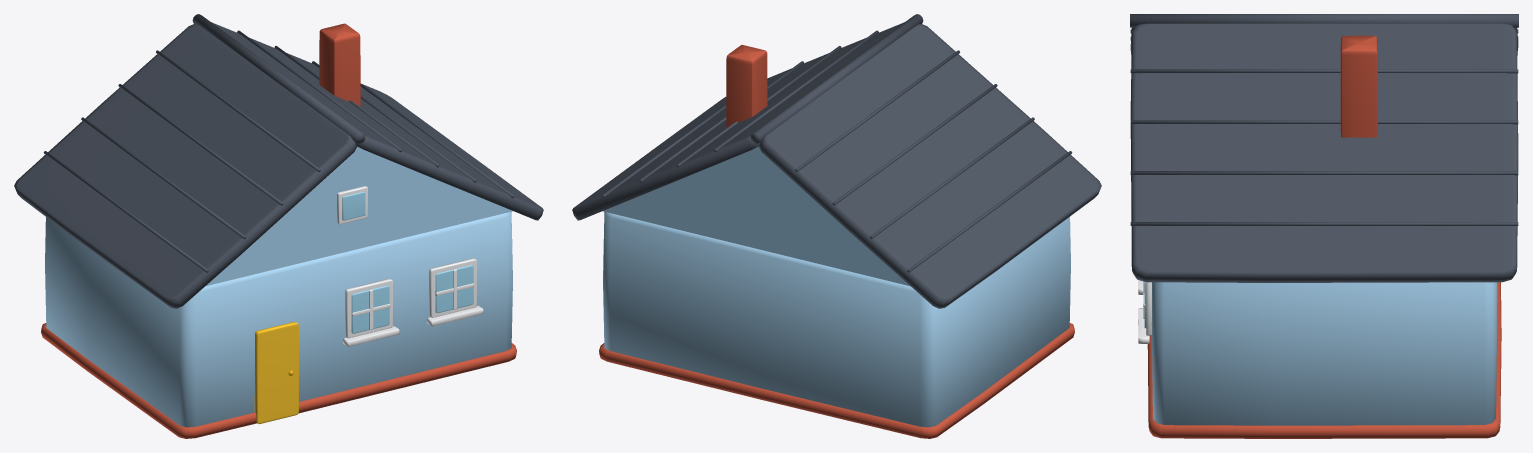
Rendered from house_b.glb.
The picture shows the model from 3 angles, left to right: view 1: azimuth 30°, elevation 25°; view 2: azimuth 150°, elevation 25°; view 3: azimuth 270°, elevation 25°; orthographic projection. The views are drawn at different scales.
Parts seen in each view (by area): view 1: Body; view 2: Body; view 3: Body.
Part boxes in pixels (x1,y1,x2,y2): Body: (14,14,543,438); Body: (572,14,1101,438); Body: (1130,14,1518,438).
Bounding box in the file's own units: 9.01 × 6.52 × 6.72.
